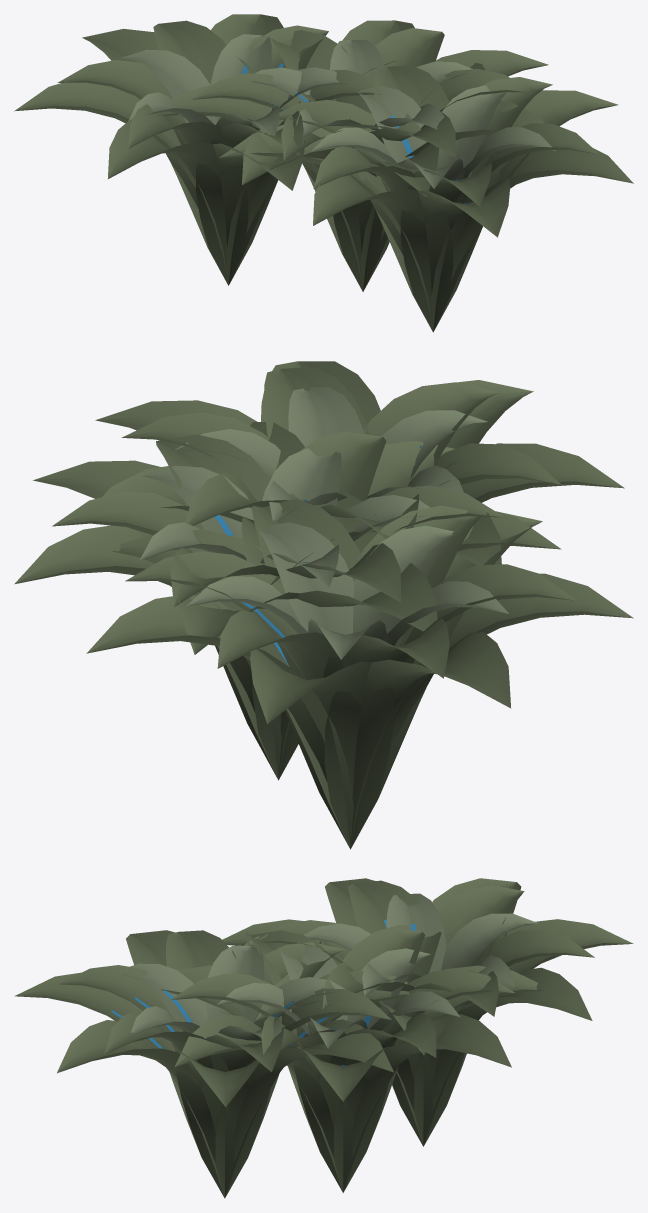
Rendered from blue-bracts-dry.glb.
3 views of the same model, one above another, from view 1: azimuth 30°, elevation 25°; view 2: azimuth 150°, elevation 25°; view 3: azimuth 270°, elevation 25° (orthographic). The views are drawn at different scales.
Parts seen in each view (by area): view 1: LAND05 blue-bracts-dry; view 2: LAND05 blue-bracts-dry; view 3: LAND05 blue-bracts-dry.
Boxes of the visible parts, x1,y1,x2,y2 form: LAND05 blue-bracts-dry: [14, 14, 633, 332]; LAND05 blue-bracts-dry: [14, 361, 633, 849]; LAND05 blue-bracts-dry: [14, 878, 633, 1198].
Size of the model in its own units: 2.33 by 1.02 by 2.71.
